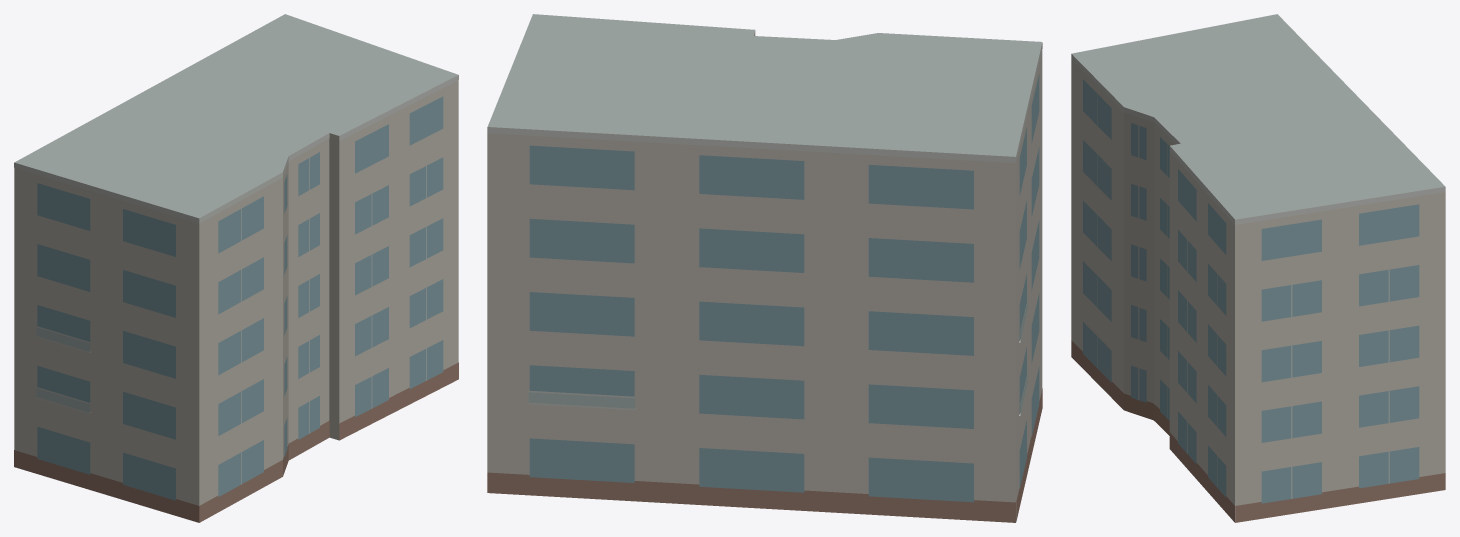
File: survey-upis-32663133.glb
3 views of the same model, side by side, from view 1: azimuth 30°, elevation 25°; view 2: azimuth 150°, elevation 25°; view 3: azimuth 270°, elevation 25° (orthographic). The views are drawn at different scales.
Visible parts, largest first — view 1: survey-upis-32663133.tmp; view 2: survey-upis-32663133.tmp; view 3: survey-upis-32663133.tmp.
Boxes of the visible parts, x1,y1,x2,y2 form: survey-upis-32663133.tmp: [14, 14, 458, 522]; survey-upis-32663133.tmp: [487, 14, 1042, 522]; survey-upis-32663133.tmp: [1071, 14, 1445, 522].
Bounding box in the file's own units: 20.52 × 14.1 × 15.78.
